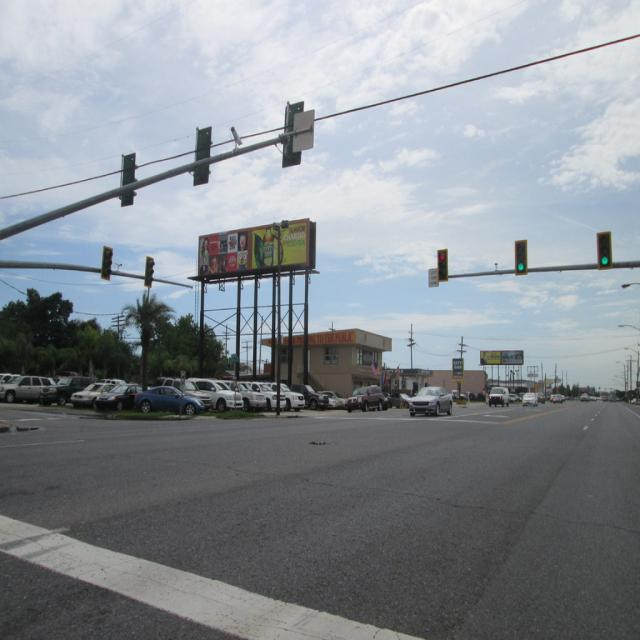traffic light: (513, 238, 530, 277), (598, 231, 613, 267), (437, 247, 451, 280)
